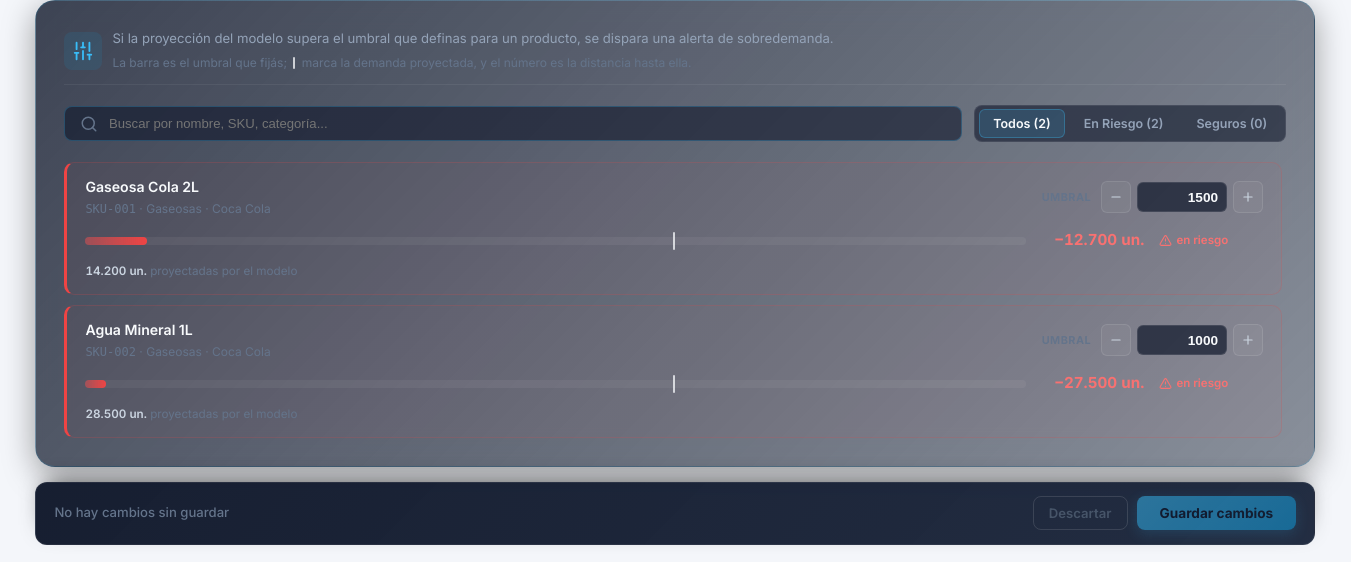
it: SettingsView › descartar cambios › deshace los cambios sin guardados al presionar Descartar
The image size is (1351, 562).
Expected: the text "Gaseosa Cola 2L" is shown, [85,178,199,195]
Replace the text in the number field in the row of "Gaseosa Cola 2L" with "99999" at coordinates (1182, 197), box [1137,182,1227,212]
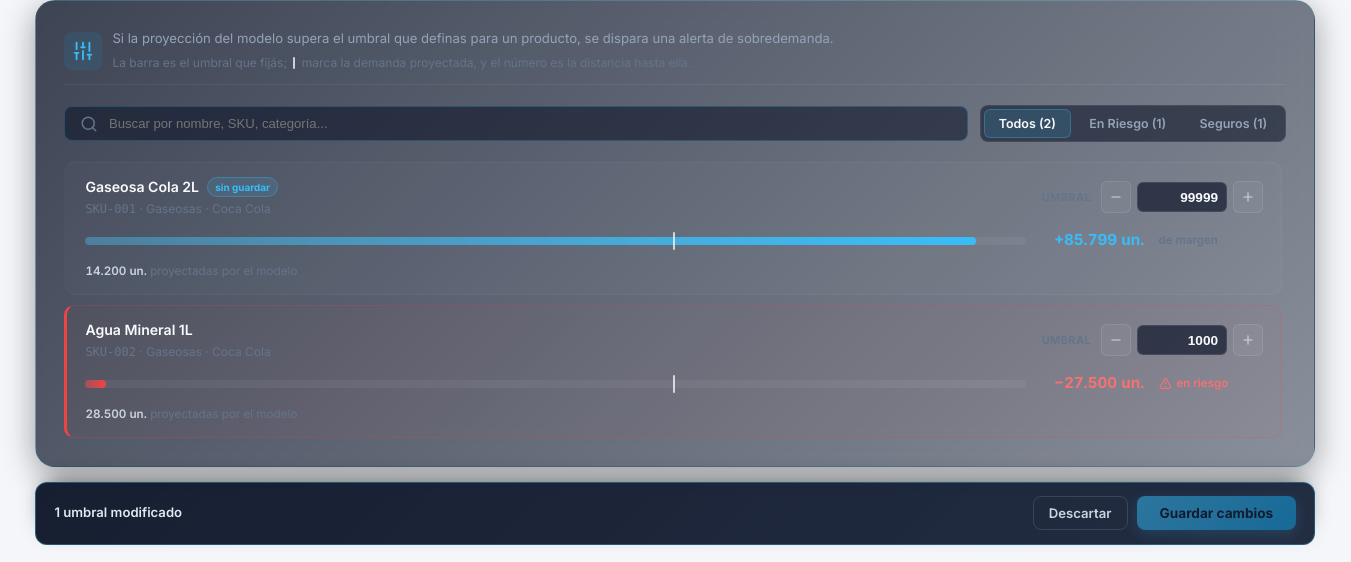
Click the button "Descartar" at coordinates (1080, 513), box [1033,496,1128,530]
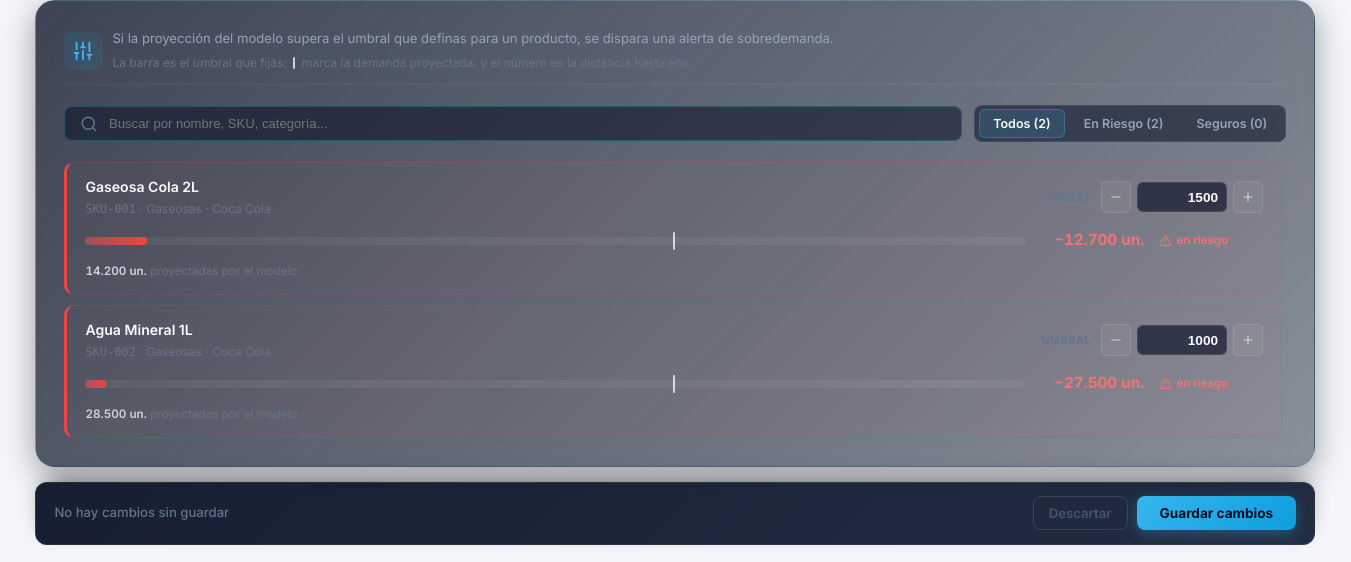
Expected: the number field in the row of "Gaseosa Cola 2L" holds "1500", [1137,182,1227,212]
